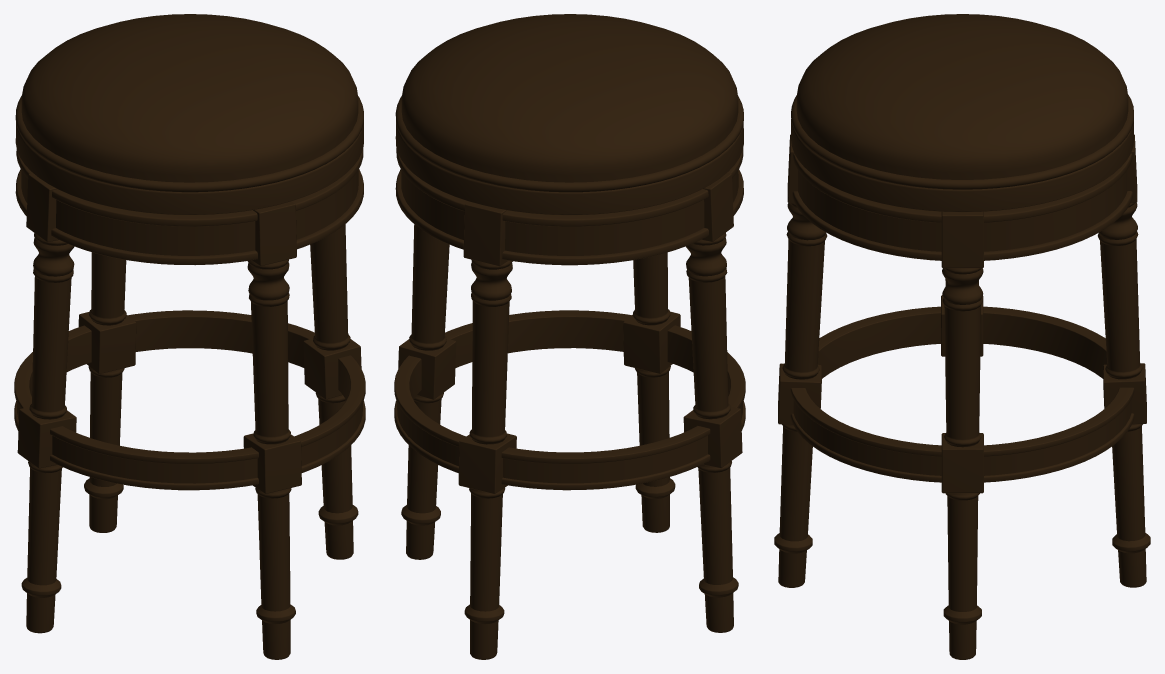
The picture shows the model from 3 angles, left to right: view 1: azimuth 30°, elevation 25°; view 2: azimuth 150°, elevation 25°; view 3: azimuth 270°, elevation 25°; orthographic projection.
Parts seen in each view (by area): view 1: Vintage_Bar_Stool_0; view 2: Vintage_Bar_Stool_0; view 3: Vintage_Bar_Stool_0.
Part boxes in pixels (x1,y1,x2,y2): Vintage_Bar_Stool_0: (14,14,365,659); Vintage_Bar_Stool_0: (394,14,745,659); Vintage_Bar_Stool_0: (774,14,1150,659).
Size of the model in its own units: 0.4349 by 0.6748 by 0.4349.
1 material, 1 textured.
